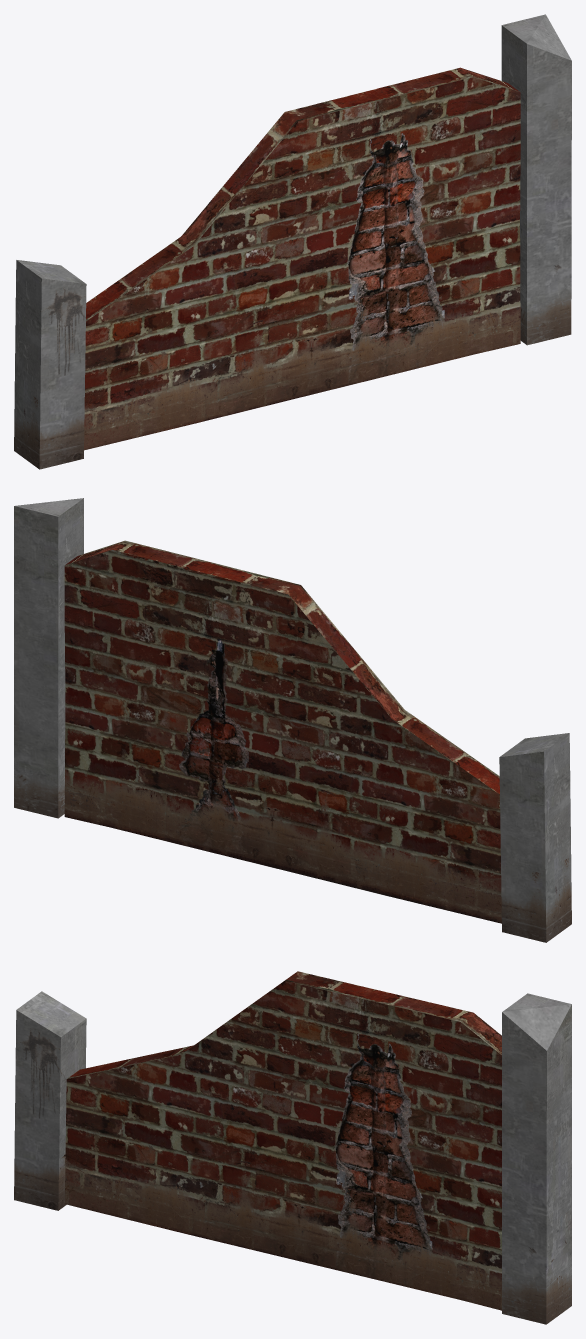
The model's file is wallBroken_Mesh00.fbx.
3 renders of one model, top to bottom at view 1: azimuth 30°, elevation 25°; view 2: azimuth 150°, elevation 25°; view 3: azimuth 330°, elevation 25°, orthographic.
Parts seen in each view (by area): view 1: polySurface2; view 2: polySurface2; view 3: polySurface2.
Part boxes in pixels (box(x1,y1,x2,y2)): polySurface2: box(14, 14, 571, 469); polySurface2: box(14, 498, 571, 942); polySurface2: box(14, 971, 571, 1324).
Bounding box in the file's own units: 144 × 79.37 × 12.
